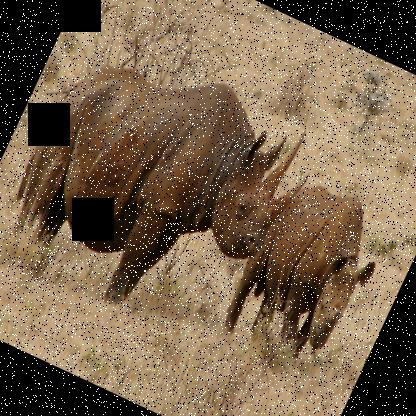Diceros bicornis: (0, 22, 331, 365), (216, 166, 400, 376)
